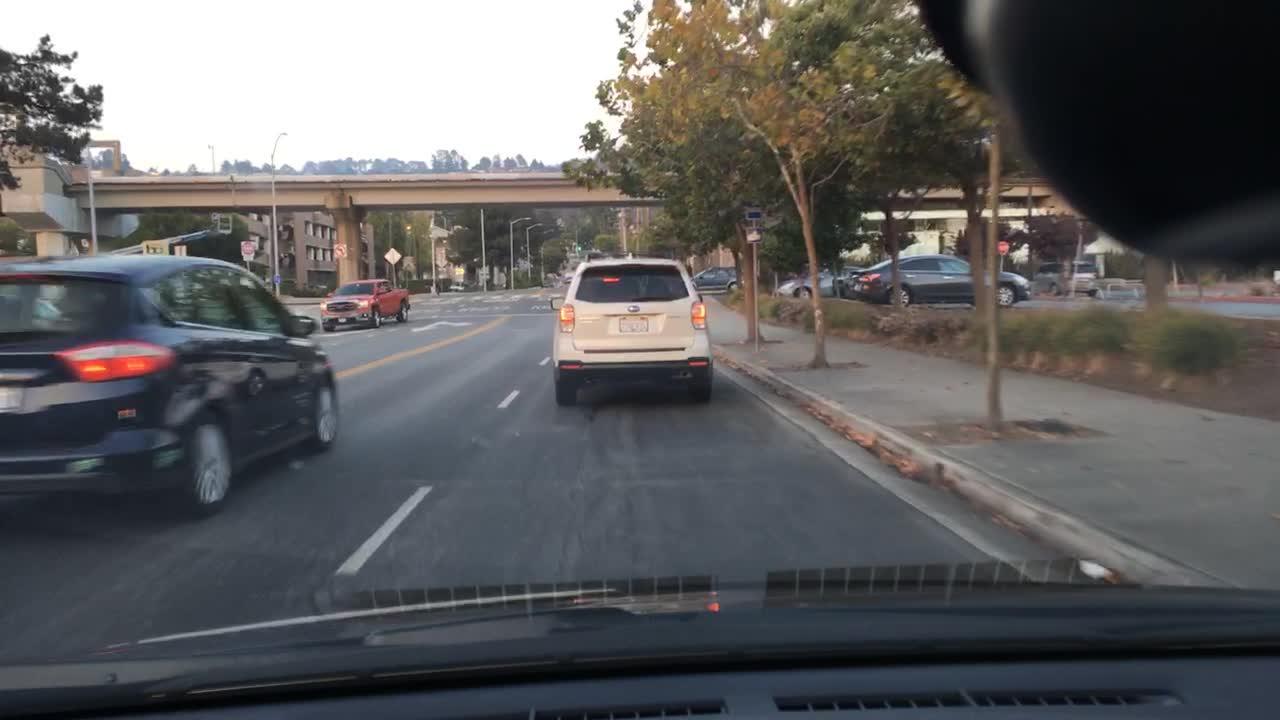car: (0, 253, 339, 521), (549, 249, 713, 406), (849, 251, 1031, 308), (320, 277, 412, 332), (776, 262, 864, 300), (1037, 258, 1099, 297), (694, 266, 739, 296), (562, 273, 572, 284)
traffic sign: (142, 239, 168, 256), (381, 246, 402, 265), (745, 225, 765, 241), (744, 206, 763, 222), (331, 242, 348, 259), (239, 239, 255, 256), (435, 246, 446, 267), (172, 243, 188, 257), (272, 270, 282, 284), (242, 254, 254, 262)
